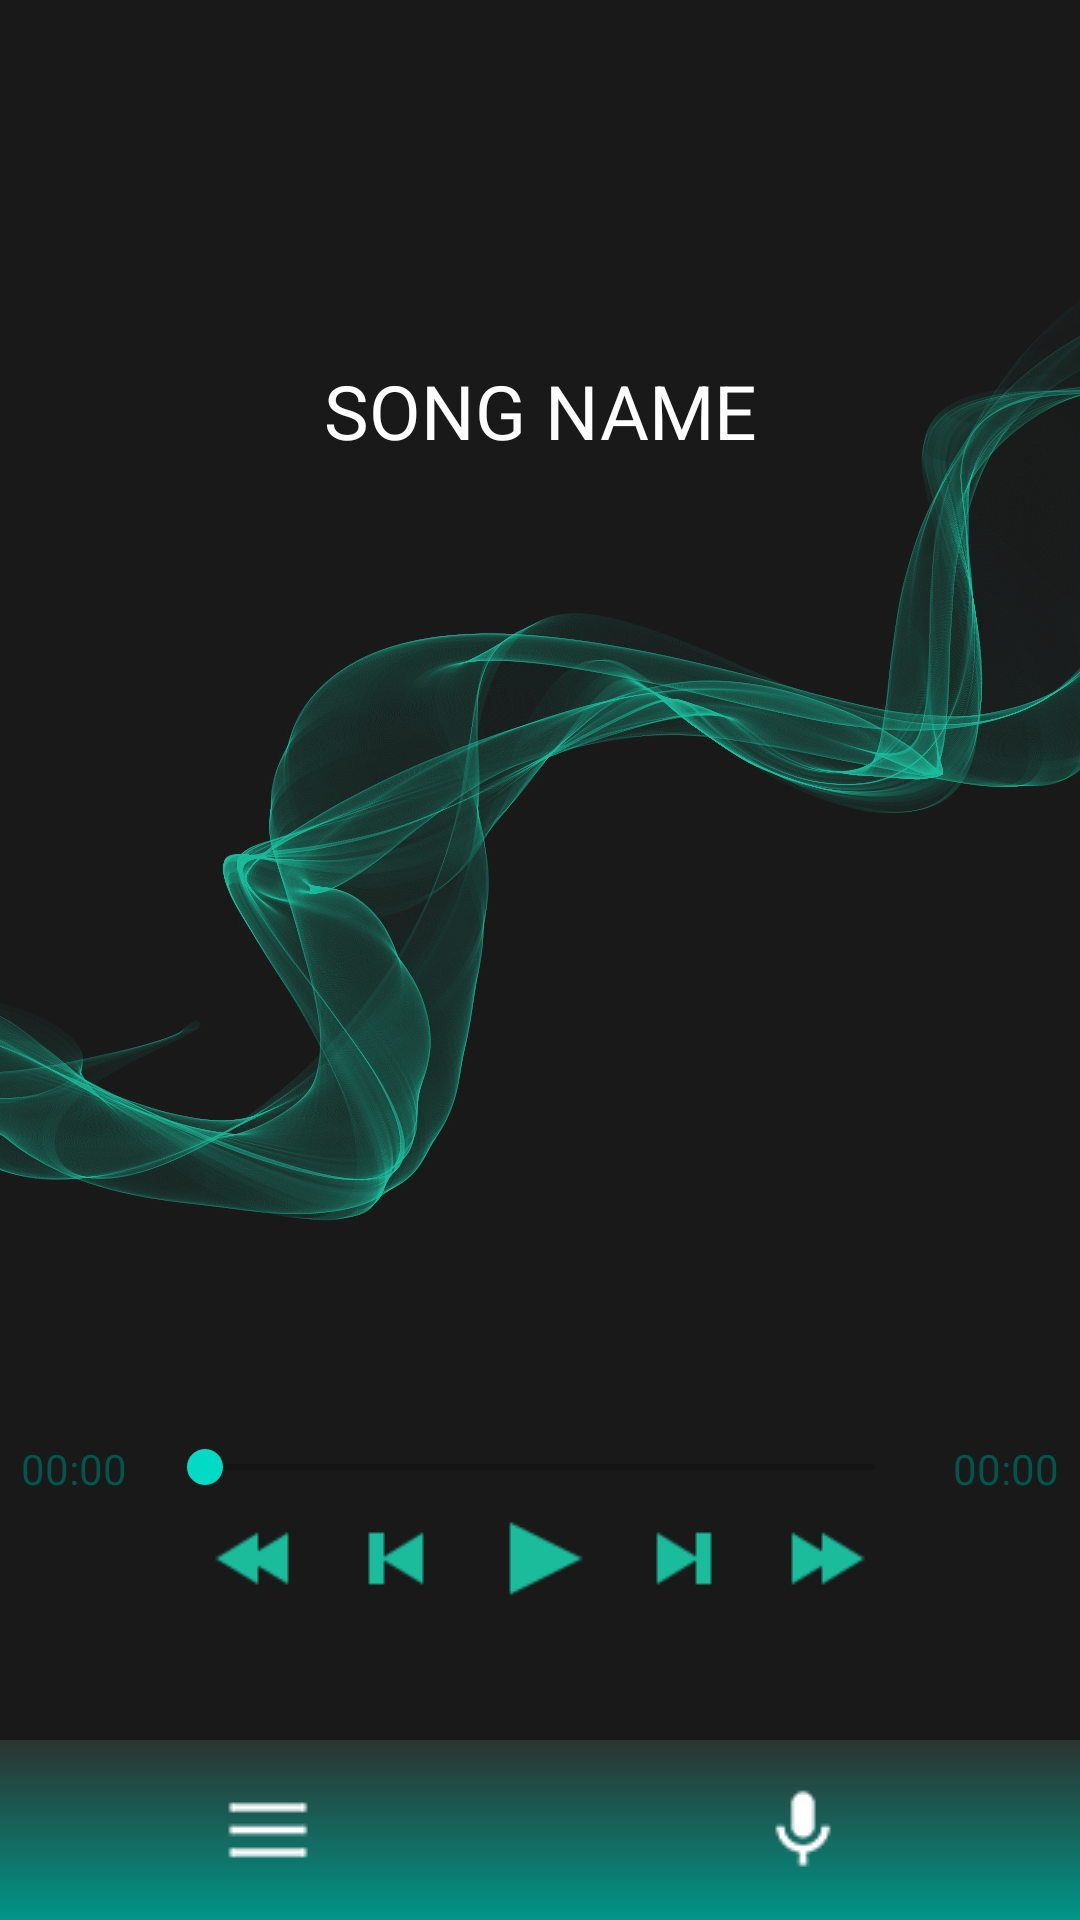

Icons on this 1080 × 1920 Android screen, each with its box as BBox(x1, y1, x2, y2):
backward: BBox(216, 1532, 289, 1585)
forward: BBox(791, 1532, 864, 1585)
next: BBox(656, 1532, 712, 1585)
play: BBox(509, 1522, 582, 1595)
previous: BBox(368, 1532, 424, 1585)
